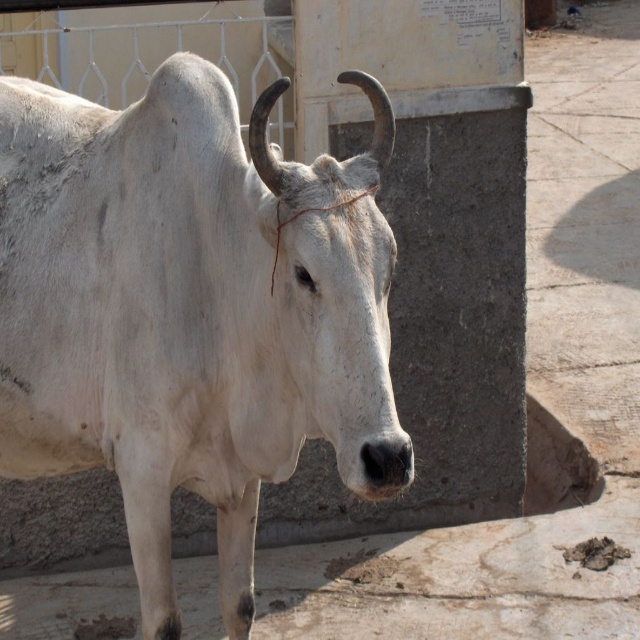Cattle: (0, 19, 430, 640)
